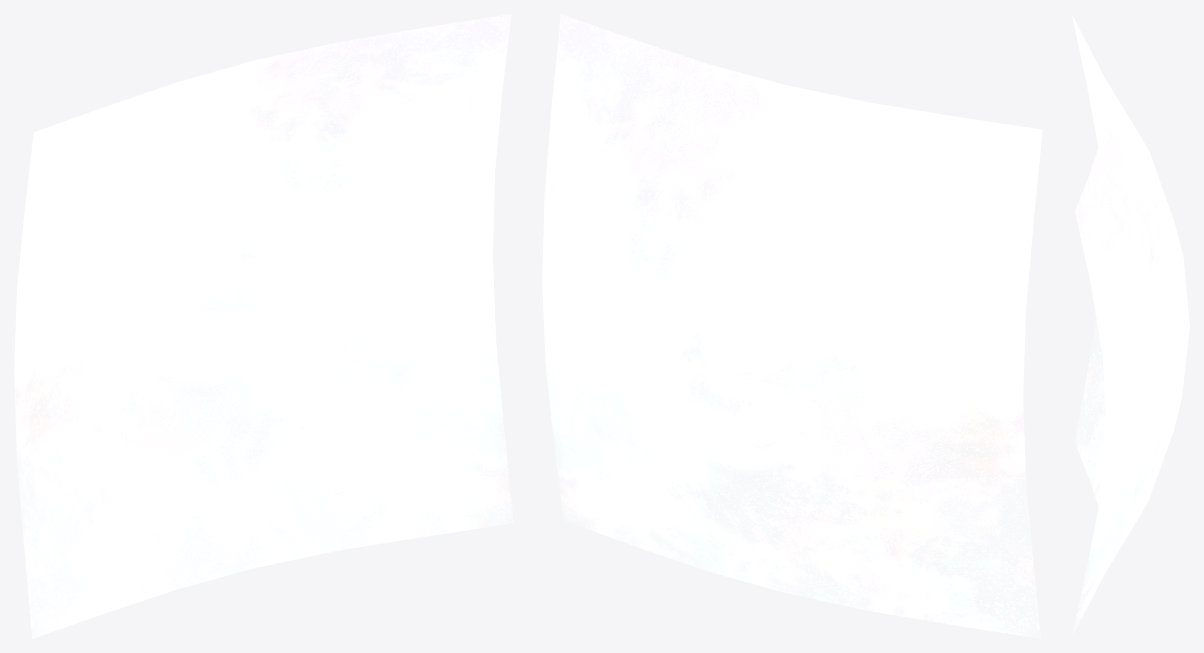
Rendered from bg_terran4_3db.gltf.
The picture shows the model from 3 angles, left to right: view 1: azimuth 30°, elevation 25°; view 2: azimuth 150°, elevation 25°; view 3: azimuth 270°, elevation 25°; orthographic projection. The views are drawn at different scales.
Parts seen in each view (by area): view 1: bg_terran4.3db; view 2: bg_terran4.3db; view 3: bg_terran4.3db.
Part boxes in pixels (<box>): bg_terran4.3db: <box>14,14,513,638</box>; bg_terran4.3db: <box>542,14,1042,638</box>; bg_terran4.3db: <box>1071,15,1189,637</box>.
Size of the model in its own units: 73.75 by 74.6 by 18.8.
4 materials, 4 textured.
